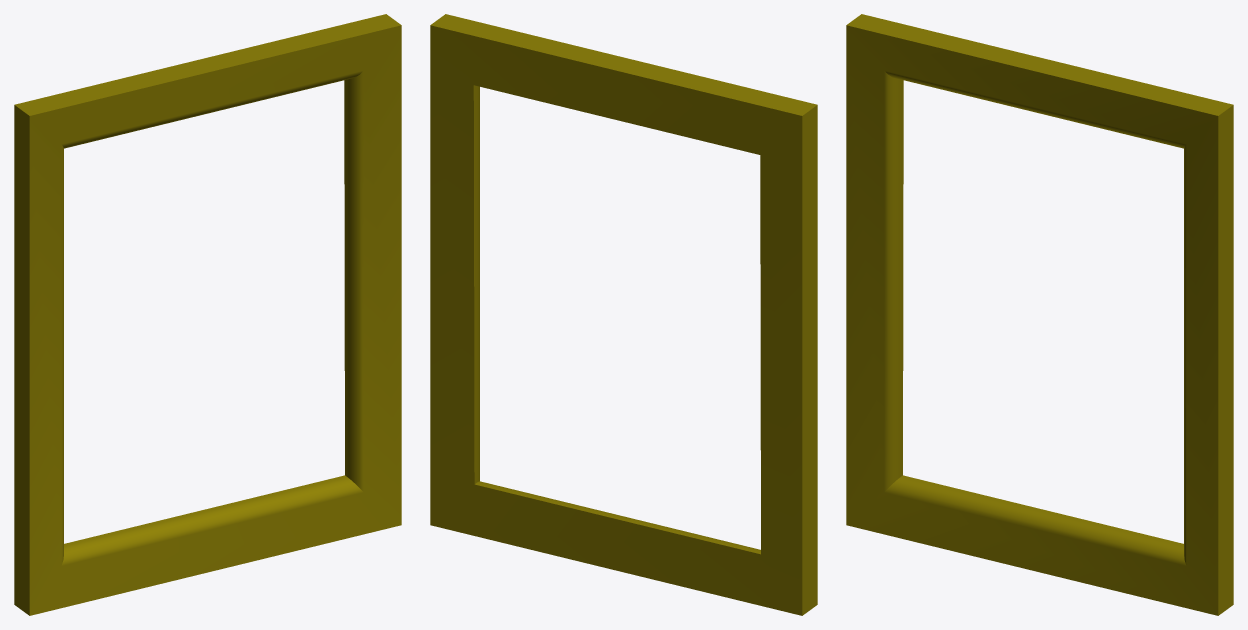
File: frame.glb
3 views of the same model, side by side, from view 1: azimuth 30°, elevation 25°; view 2: azimuth 150°, elevation 25°; view 3: azimuth 330°, elevation 25° (orthographic).
Parts seen in each view (by area): view 1: frame; view 2: frame; view 3: frame.
Part boxes in pixels (x1,y1,x2,y2): frame: (14,14,401,615); frame: (430,14,817,615); frame: (846,14,1233,615).
Size of the model in its own units: 0.9934 by 1.28 by 0.0711.
